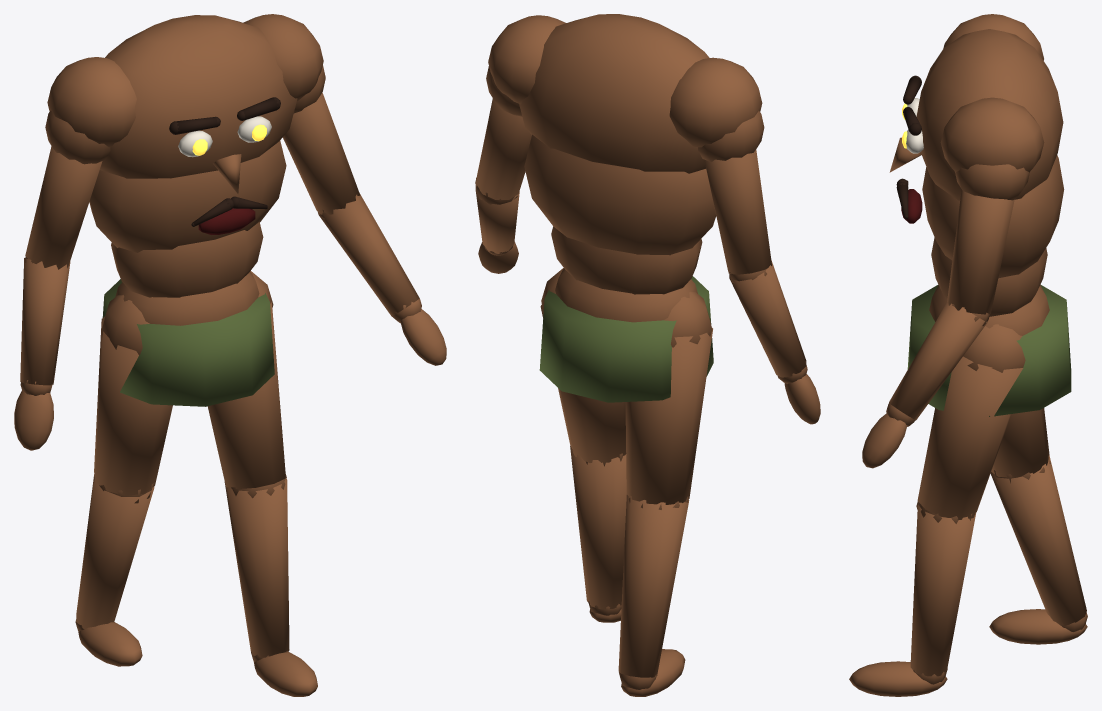
The model's file is blemmye.glb.
3 renders of one model, left to right at view 1: azimuth 30°, elevation 25°; view 2: azimuth 150°, elevation 25°; view 3: azimuth 270°, elevation 25°, orthographic. The views are drawn at different scales.
Parts seen in each view (by area): view 1: torso, pelvis, thigh_R, shin_L, upperarm_R, shin_R, thigh_L, upperarm_L, forearm_R, forearm_L, foot_L, foot_R (+2 smaller); view 2: torso, pelvis, thigh_R, shin_R, upperarm_R, shin_L, forearm_R, upperarm_L, thigh_L, forearm_L, foot_R, hand_R (+1 smaller); view 3: torso, thigh_L, pelvis, shin_R, upperarm_L, shin_L, forearm_L, thigh_R, foot_L, foot_R, hand_L.
Part boxes in pixels (box(x1,y1,x2,y2)): torso: box(47, 14, 323, 297); pelvis: box(102, 271, 274, 406); thigh_R: box(94, 295, 172, 503); shin_L: box(224, 474, 289, 661); upperarm_R: box(24, 110, 110, 269); shin_R: box(75, 474, 154, 631); thigh_L: box(207, 271, 285, 489); upperarm_L: box(283, 65, 359, 214); forearm_R: box(20, 257, 70, 395); forearm_L: box(317, 193, 421, 323); foot_L: box(254, 652, 317, 696); foot_R: box(78, 622, 142, 666); torso: box(488, 14, 762, 294); pelvis: box(539, 268, 713, 402); thigh_R: box(625, 291, 712, 504); shin_R: box(618, 495, 689, 689); upperarm_R: box(698, 111, 771, 282); shin_L: box(570, 445, 626, 615); forearm_R: box(729, 260, 807, 383); upperarm_L: box(475, 66, 531, 205); thigh_L: box(540, 268, 626, 462); forearm_L: box(475, 177, 519, 255); foot_R: box(621, 649, 685, 696); hand_R: box(784, 374, 820, 424); torso: box(889, 14, 1064, 316); thigh_L: box(917, 324, 1025, 523); pelvis: box(907, 284, 1071, 416); shin_R: box(990, 454, 1087, 631); upperarm_L: box(947, 164, 1029, 314); shin_L: box(910, 501, 976, 684); forearm_L: box(886, 301, 989, 426); thigh_R: box(991, 408, 1050, 481); foot_L: box(849, 661, 947, 696); foot_R: box(989, 609, 1087, 644); hand_L: box(862, 413, 907, 468).
Size of the model in its own units: 1.17 by 1.87 by 0.6458.
